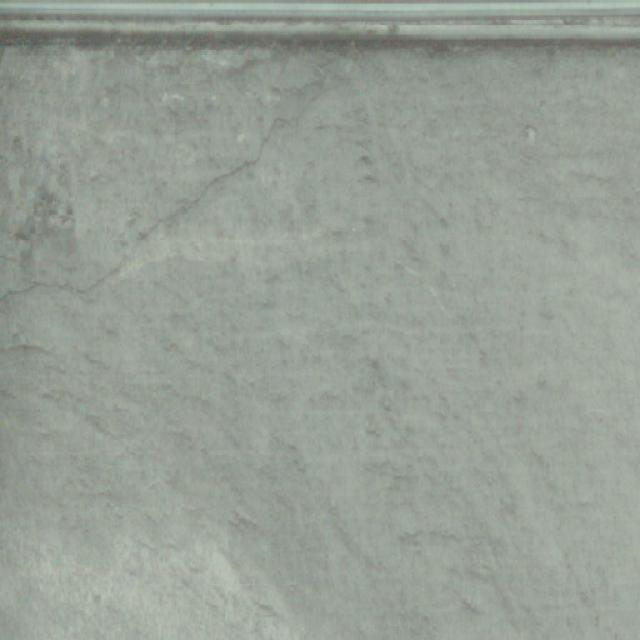Diagonal: (10, 33, 348, 304)
